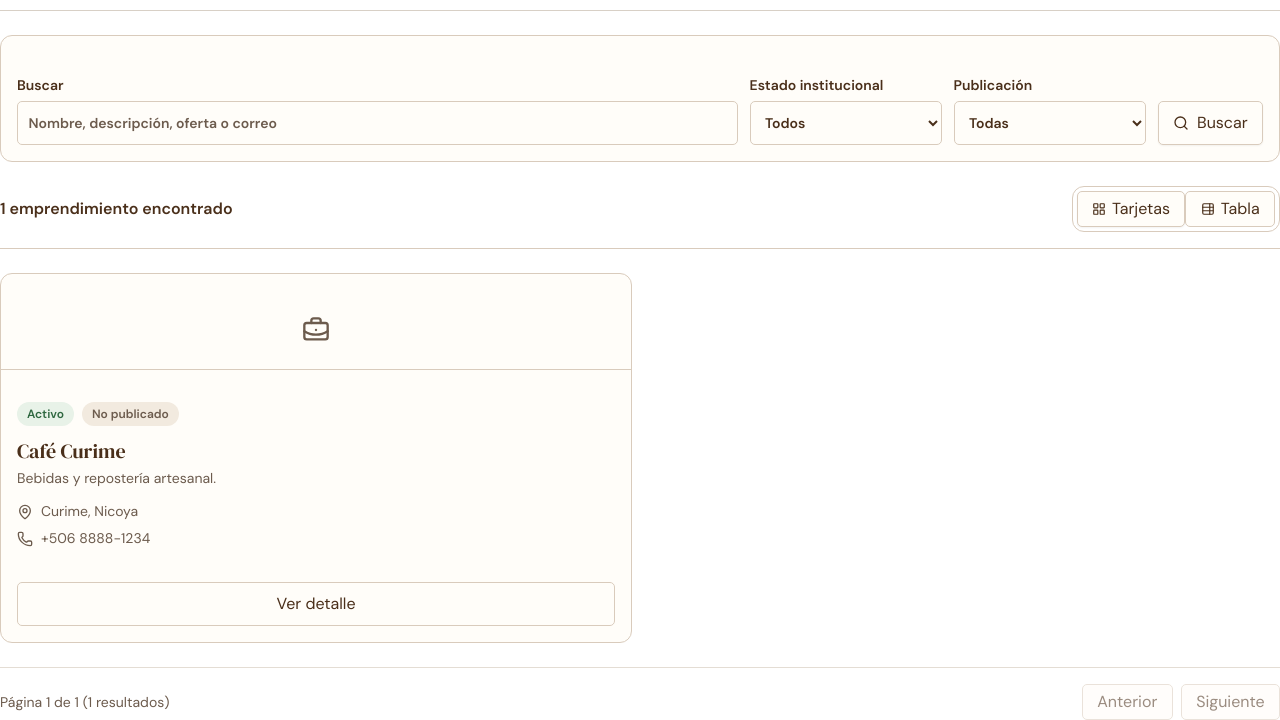
it: VenturesPage › presents supported detail information, safe links, and an accessible return action
(page scrolled)
Click the button "Ver detalle": (316, 604) 17,582 -> 615,626
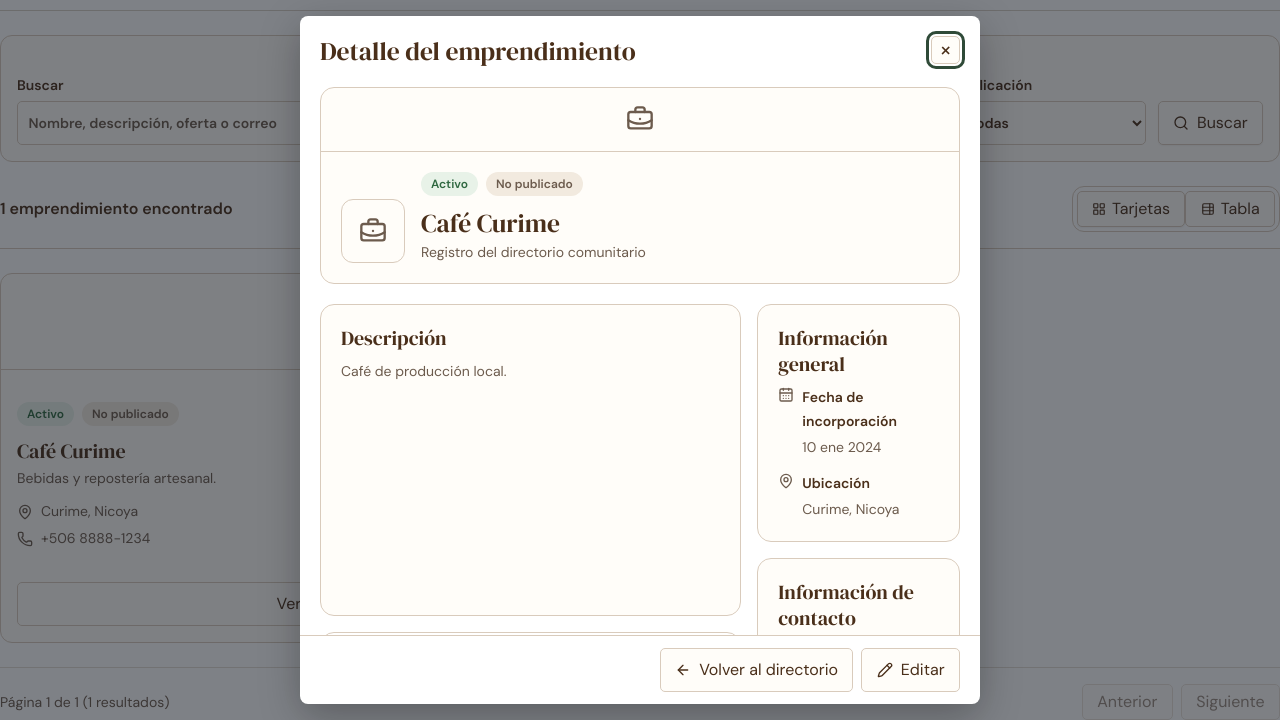
Expected: the button "Volver al directorio" is shown, 660,648 -> 853,692
Expected: the text "Café de producción local." is shown, 341,362 -> 506,380
Expected: the text "Curime, Nicoya" is shown, 802,500 -> 899,518
